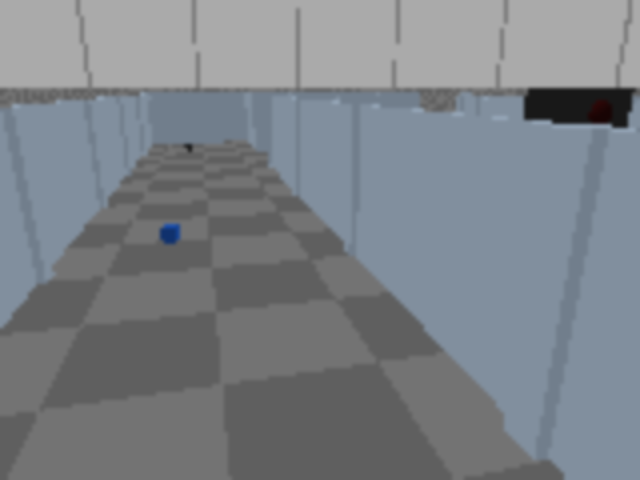puck: (161, 224, 181, 243)
